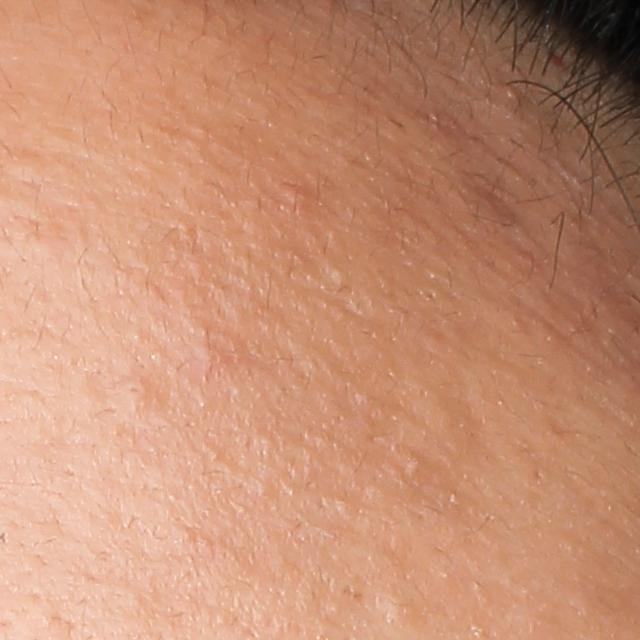comedo: (379, 592, 420, 629), (280, 179, 320, 208), (404, 454, 421, 478), (332, 265, 351, 286)
